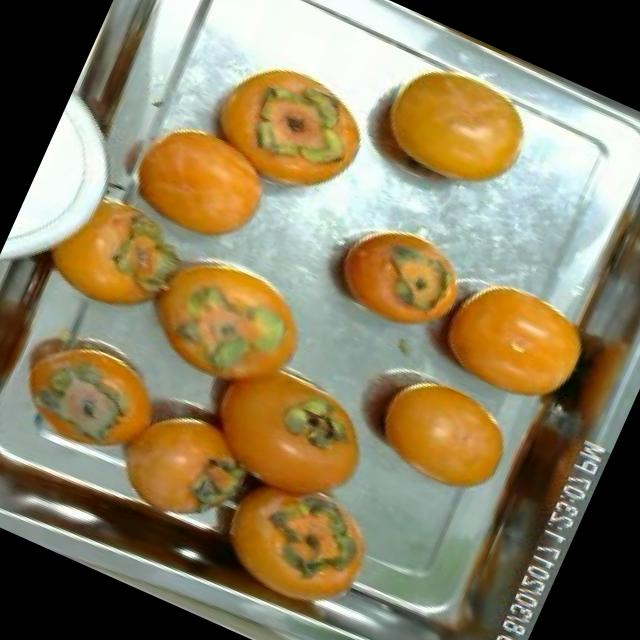Fruit: (102, 214, 344, 429), (98, 87, 300, 270), (414, 248, 615, 427), (348, 44, 550, 222), (195, 38, 392, 220), (0, 297, 186, 486), (12, 166, 205, 345), (344, 357, 529, 518), (304, 197, 486, 357)
